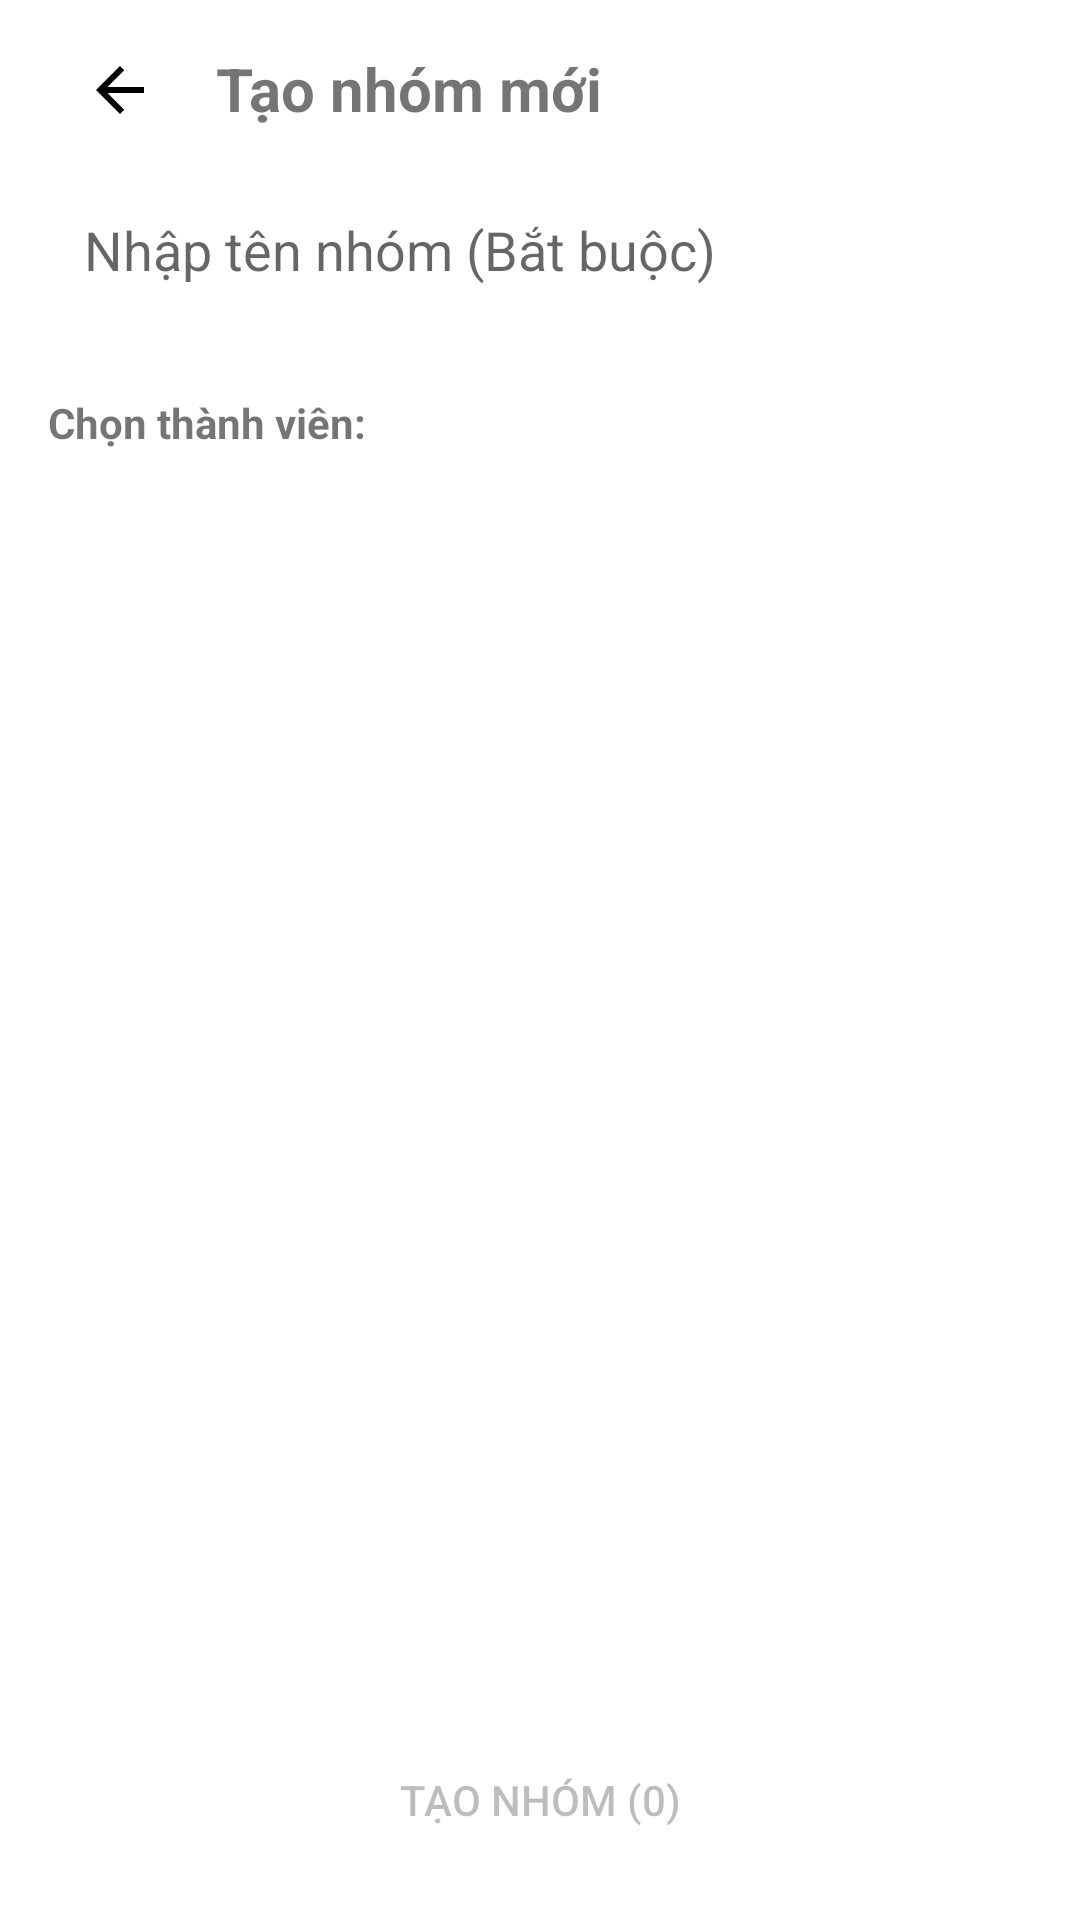

Named icons in this screenshot (1080×1920) and their centers, (x=x, y=y):
Back: (x=120, y=90)
